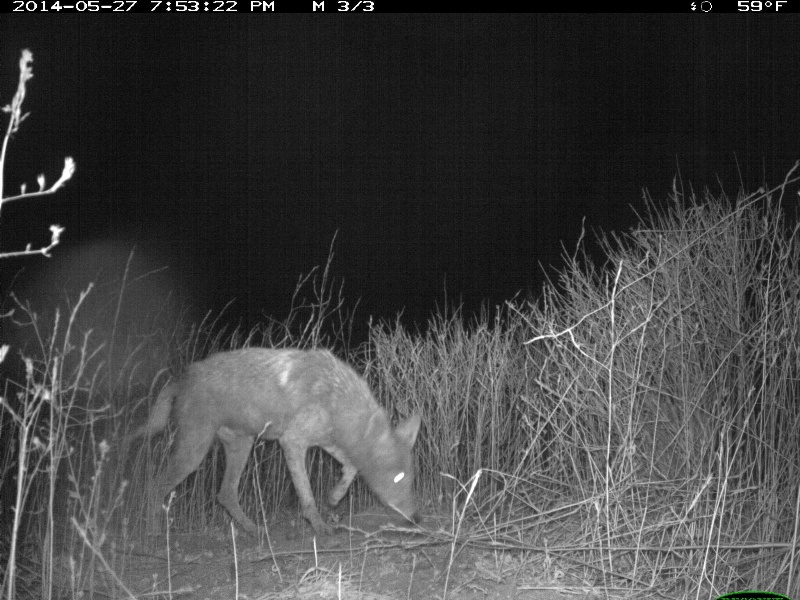coyote: (140, 350, 428, 538)
